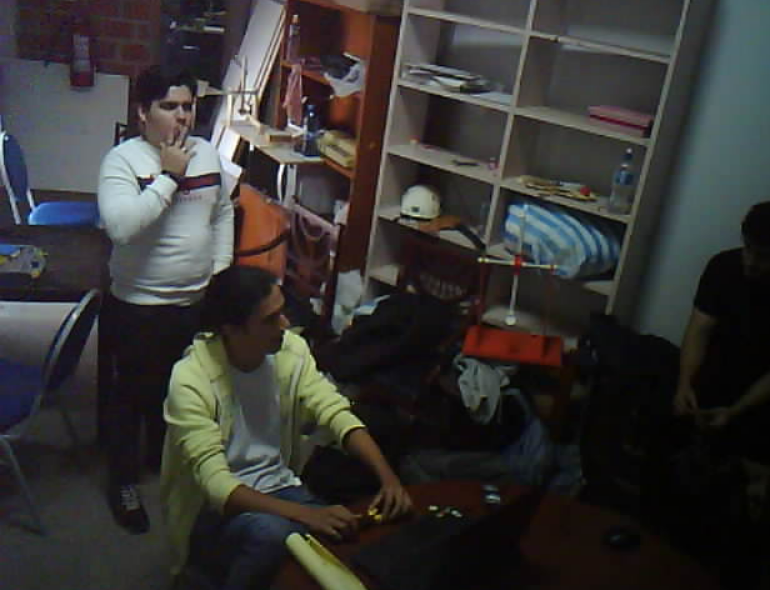person: (58, 34, 240, 540), (137, 295, 442, 590), (650, 169, 770, 533)
